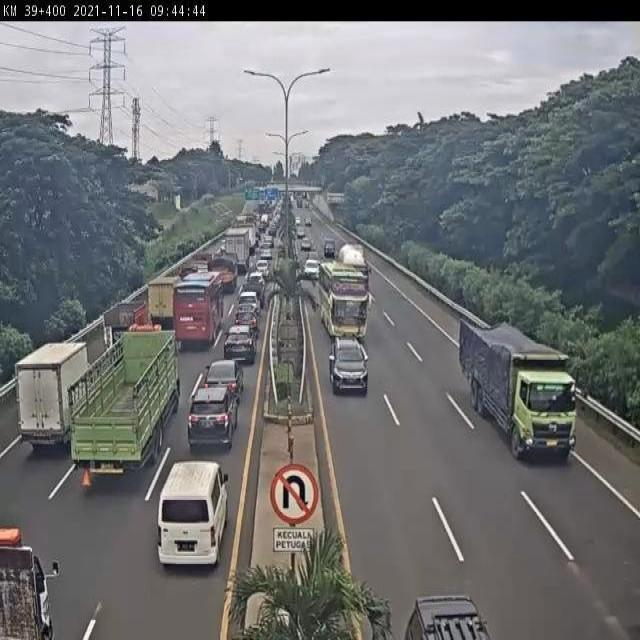Bus: (320, 262, 370, 338), (172, 270, 223, 344)
Car: (402, 594, 493, 639), (186, 382, 241, 450), (328, 337, 370, 396), (204, 358, 245, 402), (224, 321, 258, 364), (303, 258, 320, 280), (255, 260, 270, 278), (324, 238, 336, 257), (260, 246, 272, 261), (300, 238, 312, 250), (296, 226, 306, 238)
Truck: (458, 319, 578, 459), (67, 328, 178, 470), (14, 340, 89, 446), (1, 529, 59, 638), (222, 228, 250, 269)
Van: (156, 461, 228, 566)
